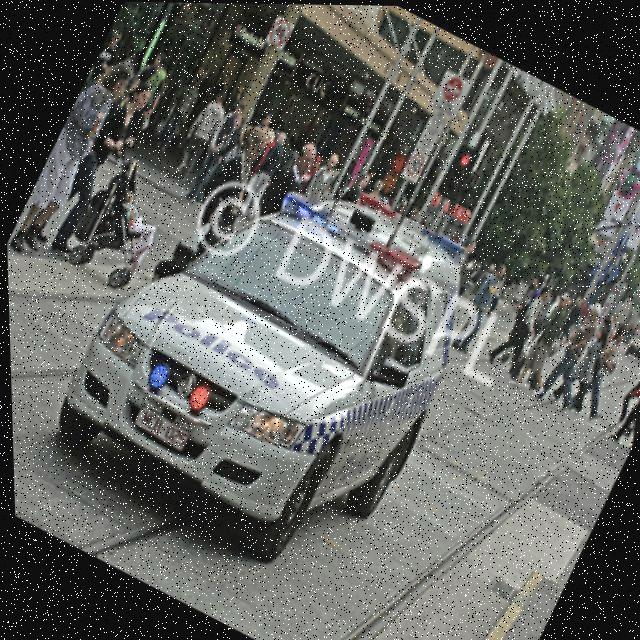license_plate: (128, 398, 192, 451)
